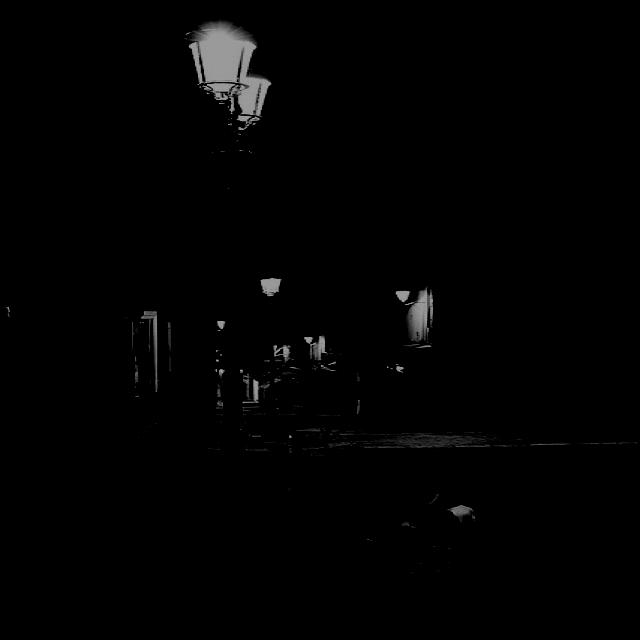Dog: (373, 479, 522, 572)
